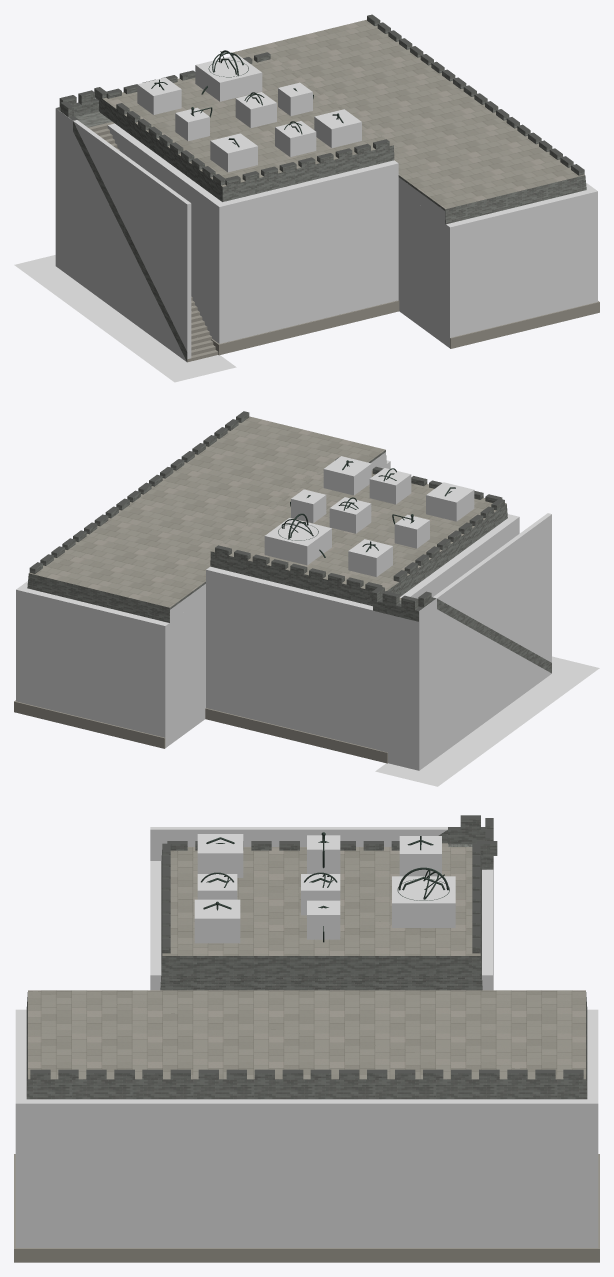
File: observatory.glb
The picture shows the model from 3 angles, top to bottom: view 1: azimuth 30°, elevation 25°; view 2: azimuth 150°, elevation 25°; view 3: azimuth 270°, elevation 25°; orthographic projection. The views are drawn at different scales.
Visible parts, largest first — view 1: Massing, COL_platform, COL_wall, COL_ramprail, Observatory, CLEAR_ramp, COL_instrument.007, COL_instrument, COL_instrument.002, COL_instrument.006, COL_instrument.001, COL_instrument.004 (+3 smaller); view 2: Massing, COL_platform, COL_wall, COL_ramprail, Observatory, COL_landing, CLEAR_ramp, COL_instrument.007, COL_instrument, COL_instrument.002, COL_instrument.006, COL_instrument.001 (+4 smaller); view 3: COL_wall, Massing, Observatory, COL_ramprail, COL_instrument.007, COL_platform, COL_instrument.002, COL_instrument, COL_instrument.006, COL_instrument.005, COL_instrument.003, COL_instrument.004 (+1 smaller).
Part boxes in pixels (box(x1,y1,x2,y2)): Massing: box(99, 19, 586, 224); COL_platform: box(107, 123, 398, 343); COL_wall: box(398, 182, 597, 347); COL_ramprail: box(55, 108, 191, 361); Observatory: box(56, 14, 599, 362); CLEAR_ramp: box(14, 255, 236, 382); COL_instrument.007: box(195, 54, 262, 101); COL_instrument: box(210, 133, 257, 172); COL_instrument.002: box(314, 109, 361, 147); COL_instrument.006: box(137, 77, 181, 114); COL_instrument.001: box(275, 121, 316, 157); COL_instrument.004: box(235, 92, 276, 127); Massing: box(27, 416, 507, 622); COL_platform: box(206, 514, 519, 749); COL_wall: box(16, 460, 390, 747); COL_ramprail: box(419, 513, 551, 770); Observatory: box(14, 411, 551, 763); COL_landing: box(378, 612, 418, 770); CLEAR_ramp: box(375, 656, 599, 786); COL_instrument.007: box(264, 518, 331, 565); COL_instrument: box(426, 482, 474, 521); COL_instrument.002: box(323, 456, 371, 495); COL_instrument.006: box(348, 539, 392, 576); COL_instrument.001: box(369, 468, 411, 504); COL_wall: box(15, 1009, 598, 1247); Massing: box(26, 837, 587, 1099); Observatory: box(14, 815, 599, 1262); COL_ramprail: box(150, 827, 447, 860); COL_instrument.007: box(392, 876, 455, 927); COL_platform: box(150, 861, 492, 990); COL_instrument.002: box(194, 899, 240, 943); COL_instrument: box(197, 834, 243, 877); COL_instrument.006: box(399, 836, 441, 876); COL_instrument.005: box(307, 900, 340, 939); COL_instrument.003: box(307, 835, 340, 873); COL_instrument.004: box(301, 874, 340, 915).
Bounding box in the file's own units: 38.8 × 18.82 × 38.64.
5 materials, 2 textured.
